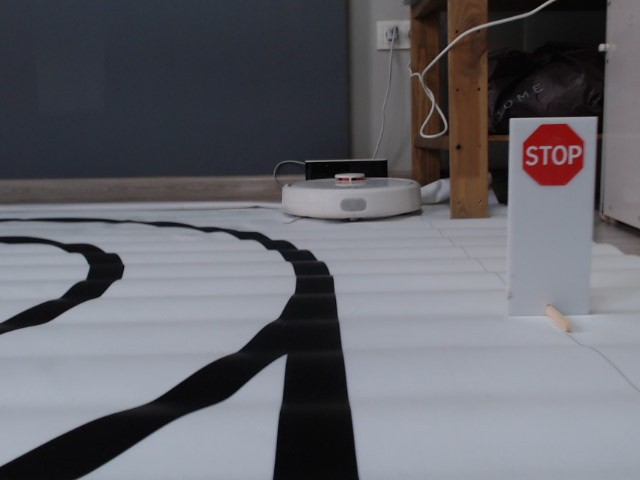Stop: (522, 122, 585, 187)
